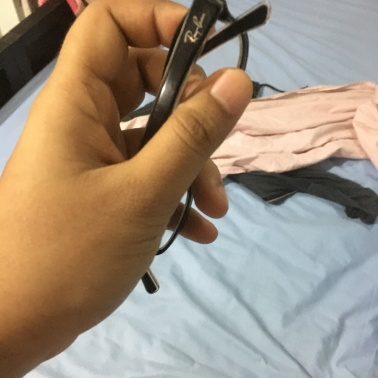glasses: (113, 6, 250, 266)
